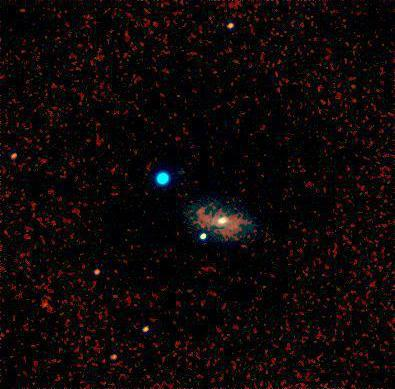star: (29, 294, 59, 324)
